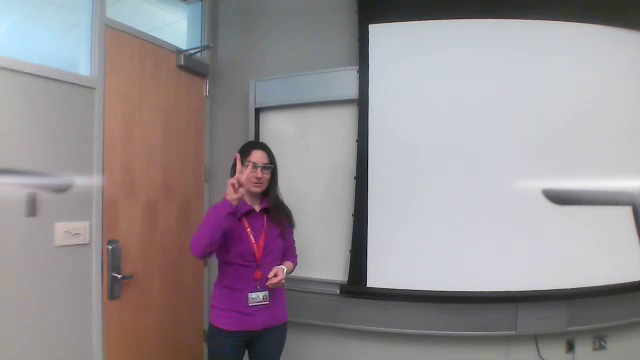peace: (221, 151, 255, 199)
